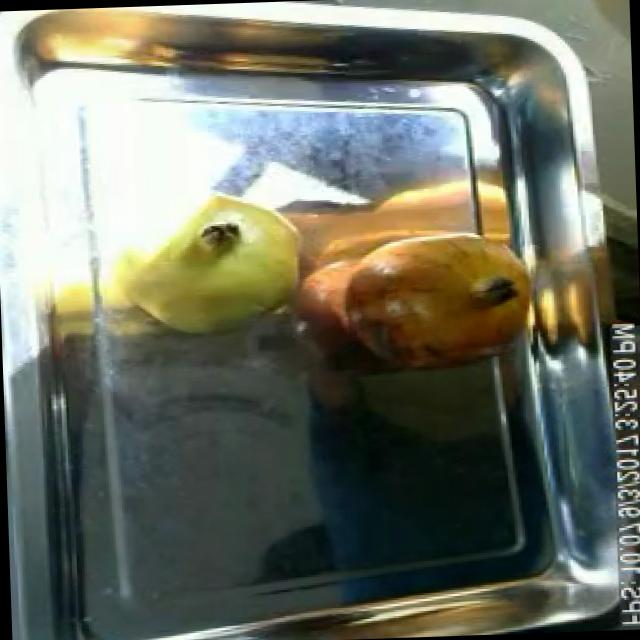fruit: (104, 178, 321, 349), (324, 218, 543, 384)
